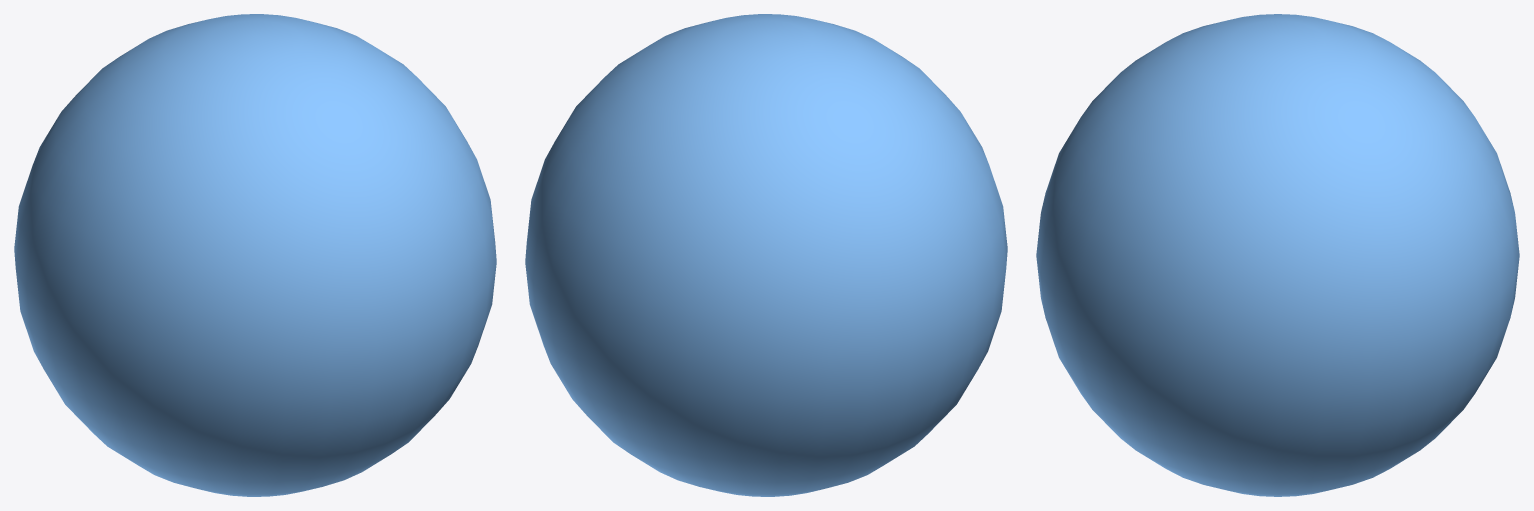
Rendered from Na_Sodio.glb.
3 views of the same model, side by side, from view 1: azimuth 30°, elevation 25°; view 2: azimuth 150°, elevation 25°; view 3: azimuth 270°, elevation 25° (orthographic).
Parts seen in each view (by area): view 1: Na_Nube_Electronica; view 2: Na_Nube_Electronica; view 3: Na_Nube_Electronica.
Boxes of the visible parts, bbox=[...] form: Na_Nube_Electronica: bbox=[14, 14, 496, 496]; Na_Nube_Electronica: bbox=[525, 14, 1007, 496]; Na_Nube_Electronica: bbox=[1036, 14, 1519, 496].
Bounding box in the file's own units: 0.234 × 0.234 × 0.234.
